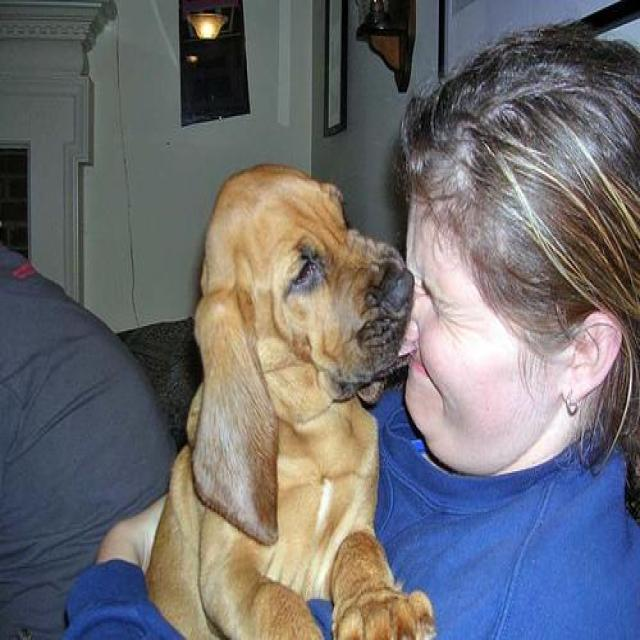bloodhound: (139, 157, 443, 638)
